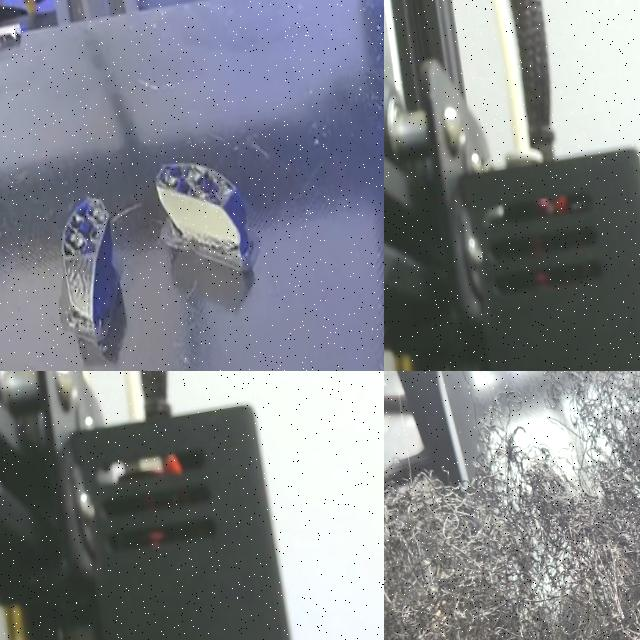spaghetti: (384, 371, 640, 640)
